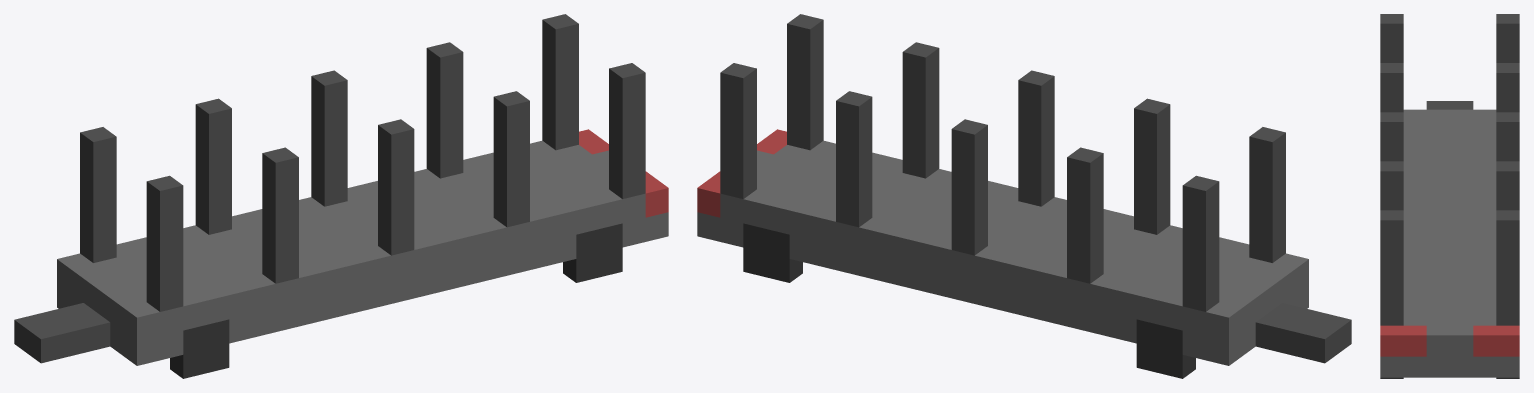
File: truck-trailer-v4-grey.gltf
3 views of the same model, side by side, from view 1: azimuth 30°, elevation 25°; view 2: azimuth 150°, elevation 25°; view 3: azimuth 270°, elevation 25° (orthographic). The views are drawn at different scales.
Parts seen in each view (by area): view 1: model, wheels; view 2: model, wheels; view 3: model.
Boxes of the visible parts, <box> form: model: <box>14,14,668,365</box>; wheels: <box>170,223,622,378</box>; model: <box>697,14,1351,365</box>; wheels: <box>743,223,1195,378</box>; model: <box>1380,14,1519,377</box>.
Size of the model in its own units: 2.6 by 0.8 by 0.6.
2 materials, 2 textured.
